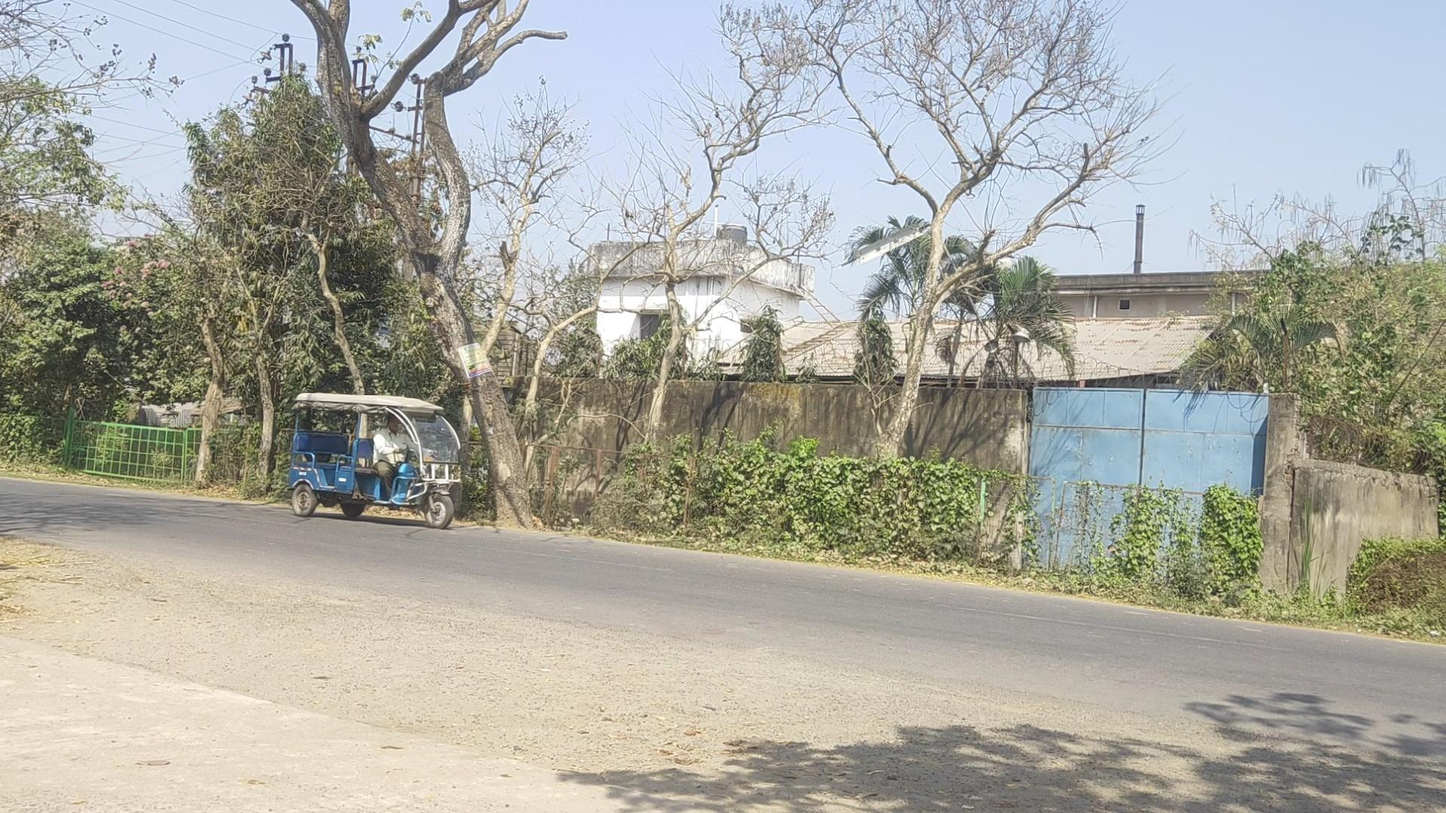Auto: (287, 393, 461, 530)
